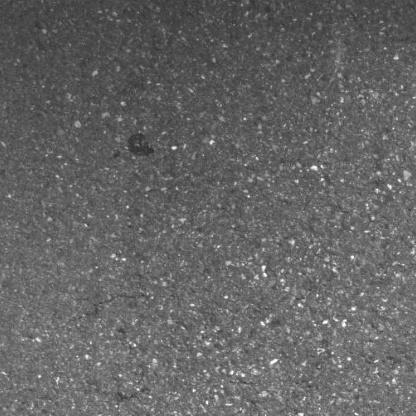Cracks: (66, 382, 157, 416)
